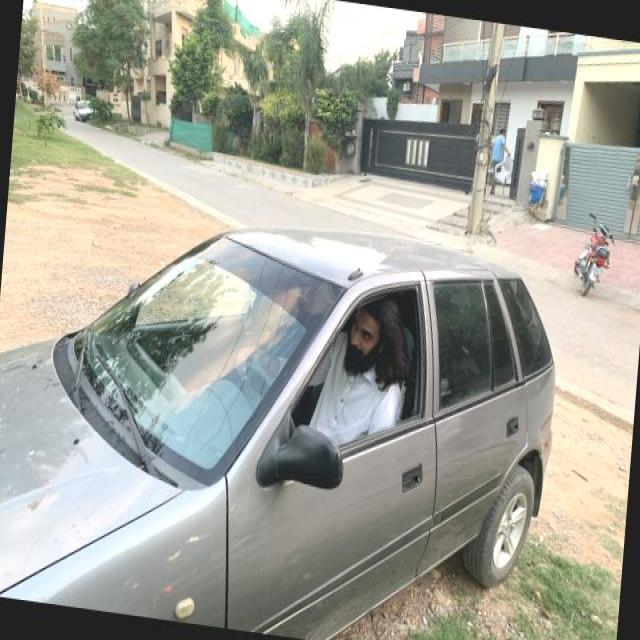no-seatbelt: (288, 342, 406, 461)
